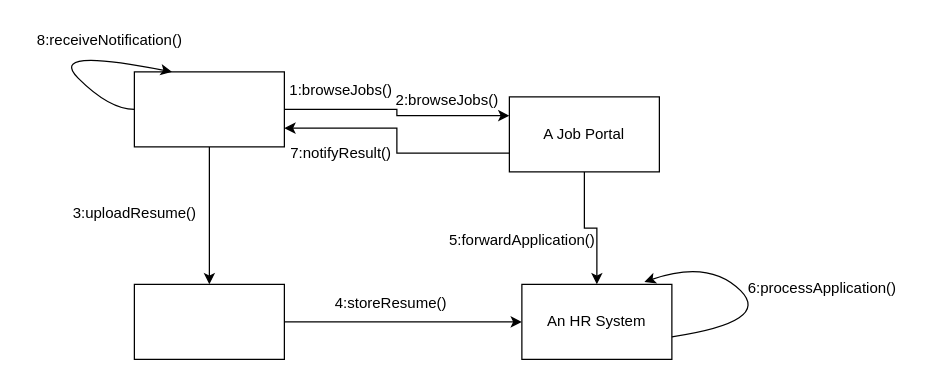
The diagram is 930 pixels wide and 381 high, and some of its shapes have lost their labels. The shapes that lost their labels are listed below. From the top down, each one's centre as x and y in pixels, then its label:
[208,109]: A Job Seeker
[208,321]: A Resume DB
